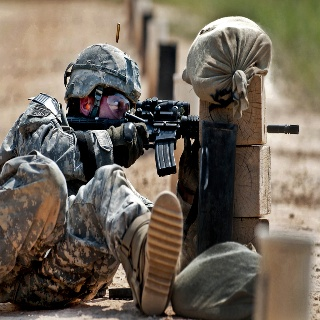rifle: (64, 94, 302, 180)
